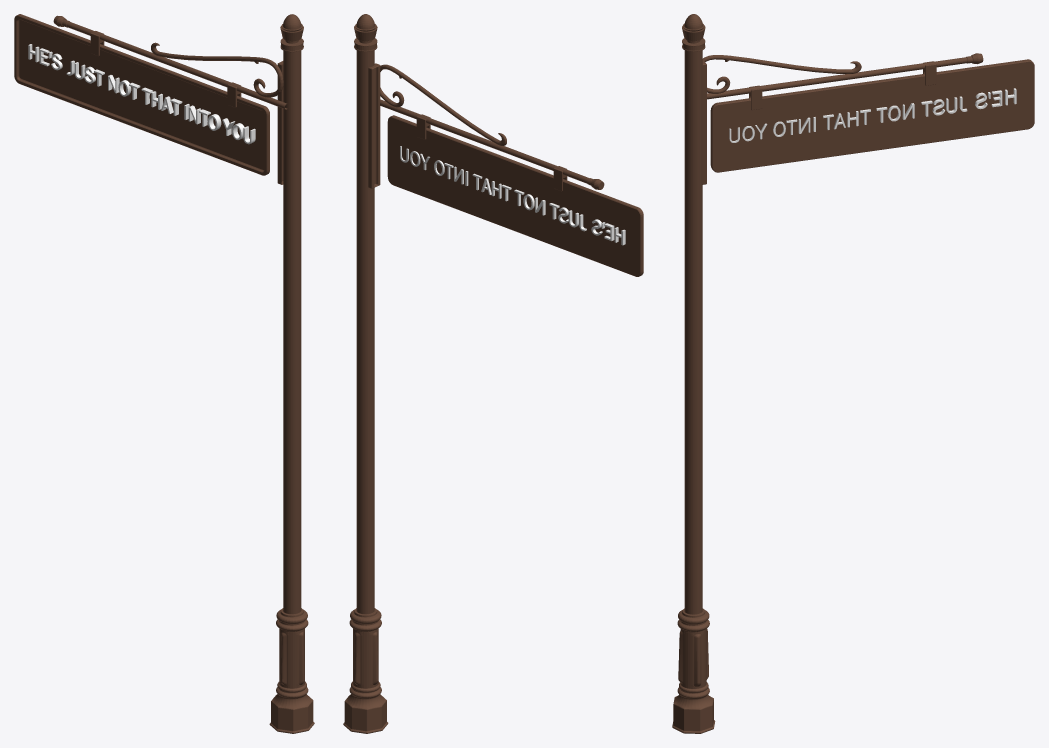
Rendered from HE'S JUST NOT THAT INTO YOU.fbx.
3 views of the same model, side by side, from view 1: azimuth 30°, elevation 25°; view 2: azimuth 210°, elevation 25°; view 3: azimuth 270°, elevation 25° (orthographic).
Visible parts, largest first — view 1: Street_Sign_10_7, Street_Sign_10, STREET SIGN TEXT, Street_Sign_10_4, Street_Sign_10_3, Street_Sign_10_2; view 2: Street_Sign_10_7, Street_Sign_10, STREET SIGN TEXT, Street_Sign_10_2, Street_Sign_10_4, Street_Sign_10_3; view 3: Street_Sign_10_7, Street_Sign_10, STREET SIGN TEXT, Street_Sign_10_4, Street_Sign_10_3, Street_Sign_10_2.
Part boxes in pixels (box(x1,y1,x2,y2)): Street_Sign_10_7: box(14, 14, 269, 175); Street_Sign_10: box(269, 14, 314, 733); STREET SIGN TEXT: box(28, 44, 255, 144); Street_Sign_10_4: box(53, 15, 287, 109); Street_Sign_10_3: box(151, 42, 283, 97); Street_Sign_10_2: box(277, 61, 283, 184); Street_Sign_10_7: box(387, 115, 643, 276); Street_Sign_10: box(343, 14, 388, 733); STREET SIGN TEXT: box(400, 146, 625, 245); Street_Sign_10_2: box(368, 63, 380, 188); Street_Sign_10_4: box(380, 99, 604, 189); Street_Sign_10_3: box(380, 64, 506, 145); Street_Sign_10_7: box(710, 59, 1034, 172); Street_Sign_10: box(672, 14, 715, 733); STREET SIGN TEXT: box(729, 88, 1016, 142); Street_Sign_10_4: box(707, 53, 983, 99); Street_Sign_10_3: box(703, 55, 861, 93); Street_Sign_10_2: box(702, 59, 706, 184).
Size of the model in its own units: 4.18 by 10.32 by 22.31.
